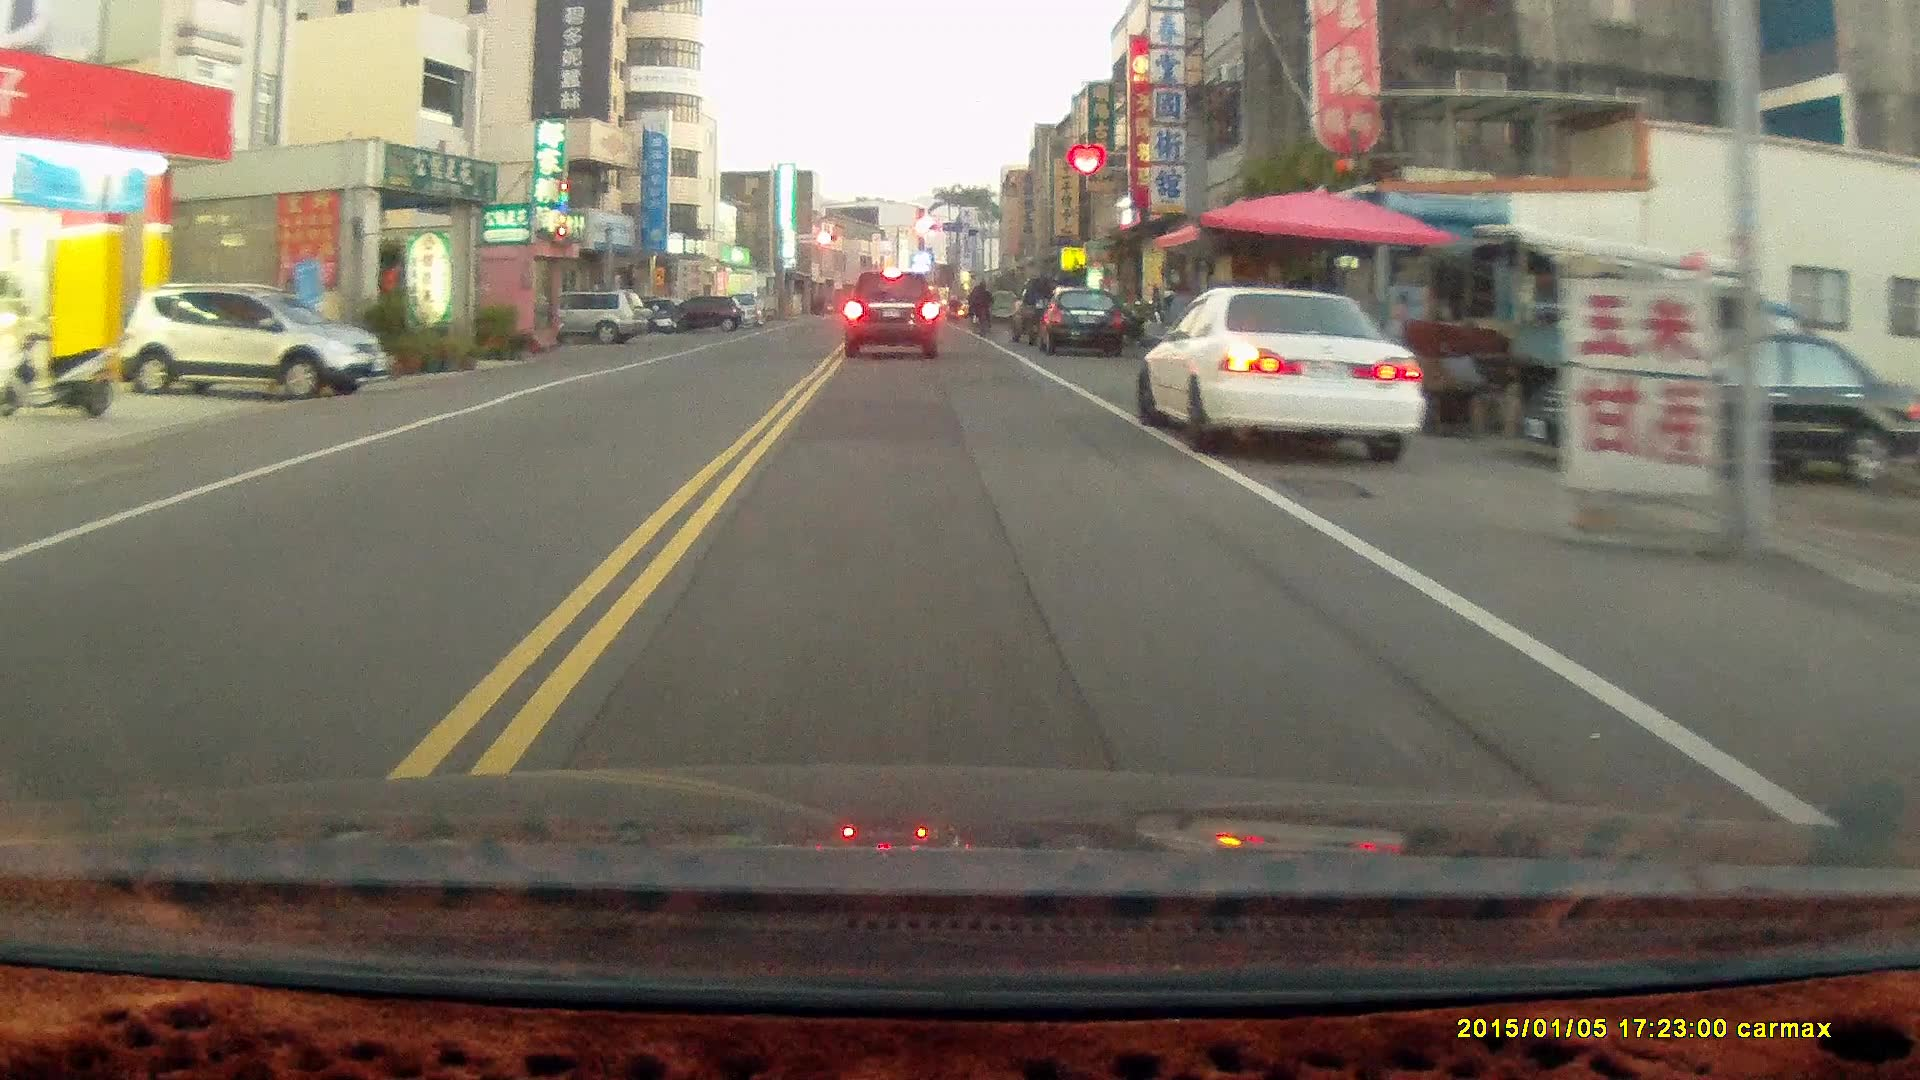rider: (968, 278, 994, 335)
vehicle: (1520, 321, 1918, 482), (1141, 284, 1425, 464), (127, 283, 380, 403), (843, 266, 942, 361), (1035, 288, 1130, 355), (553, 290, 652, 345)
